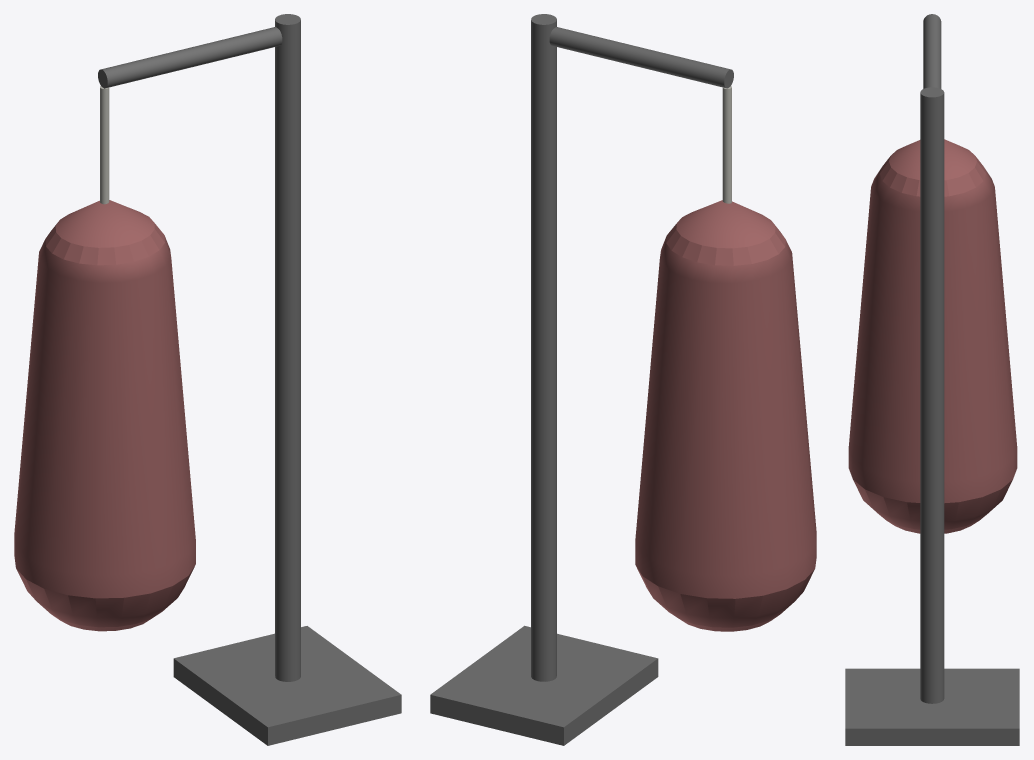
Rendered from punching bag.fbx.
The picture shows the model from 3 angles, left to right: view 1: azimuth 30°, elevation 25°; view 2: azimuth 150°, elevation 25°; view 3: azimuth 270°, elevation 25°; orthographic projection. The views are drawn at different scales.
Parts seen in each view (by area): view 1: polySurface1; view 2: polySurface1; view 3: polySurface1.
Boxes of the visible parts, x1=… form: polySurface1: x1=14, y1=14, x2=401, y2=745; polySurface1: x1=430, y1=14, x2=816, y2=745; polySurface1: x1=845, y1=14, x2=1019, y2=745.
Bounding box in the file's own units: 4.72 × 9.3 × 2.35.
